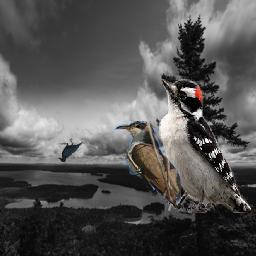Crow: (59, 138, 84, 162)
Cuckoo: (99, 122, 181, 205)
Woodpecker: (157, 79, 251, 213)
